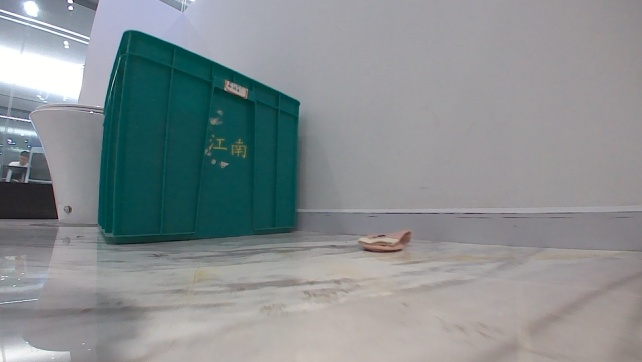socks: (349, 228, 416, 255)
toilet: (27, 104, 104, 225)
